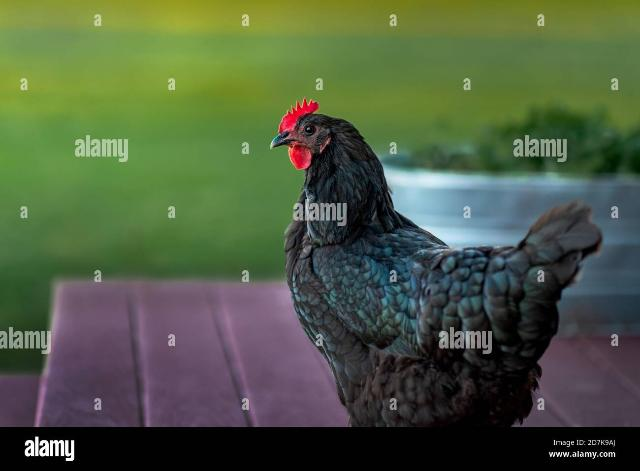Chicken: (270, 98, 606, 427)
